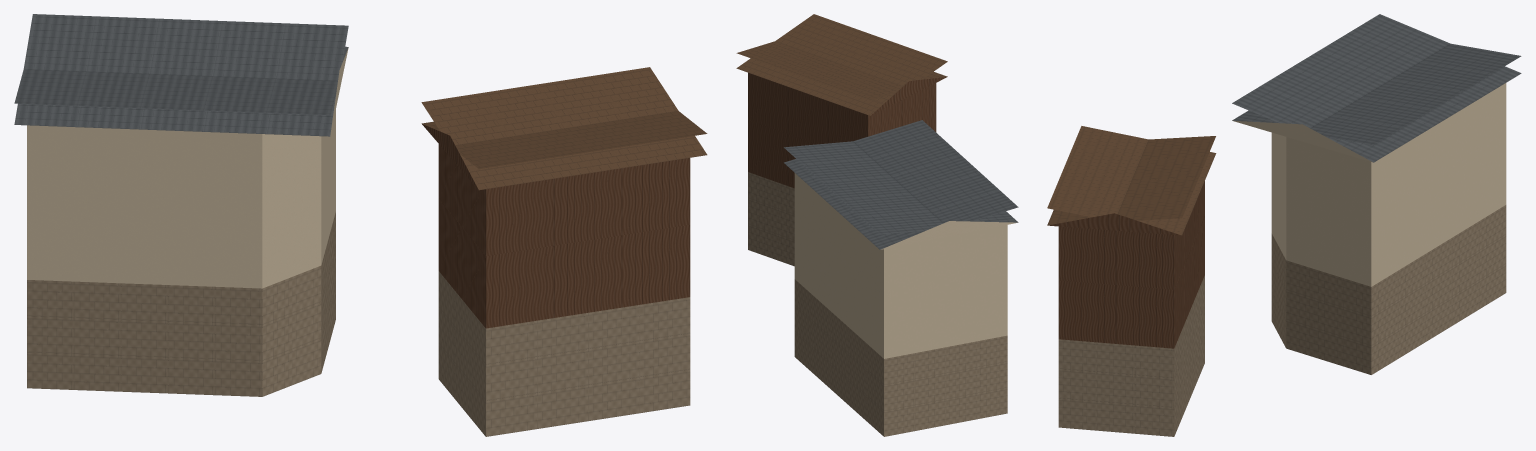
The model's file is bld_c38_36_287.gltf.
3 views of the same model, side by side, from view 1: azimuth 30°, elevation 25°; view 2: azimuth 150°, elevation 25°; view 3: azimuth 270°, elevation 25° (orthographic). The views are drawn at different scales.
Visible parts, largest first — view 1: bld_c38_36_287; view 2: bld_c38_36_287; view 3: bld_c38_36_287.
Boxes of the visible parts, bbox=[...] form: bld_c38_36_287: bbox=[14, 14, 707, 436]; bld_c38_36_287: bbox=[736, 14, 1018, 436]; bld_c38_36_287: bbox=[1047, 14, 1521, 436].
Bounding box in the file's own units: 25.31 × 13.6 × 24.85.
7 materials, 7 textured.
